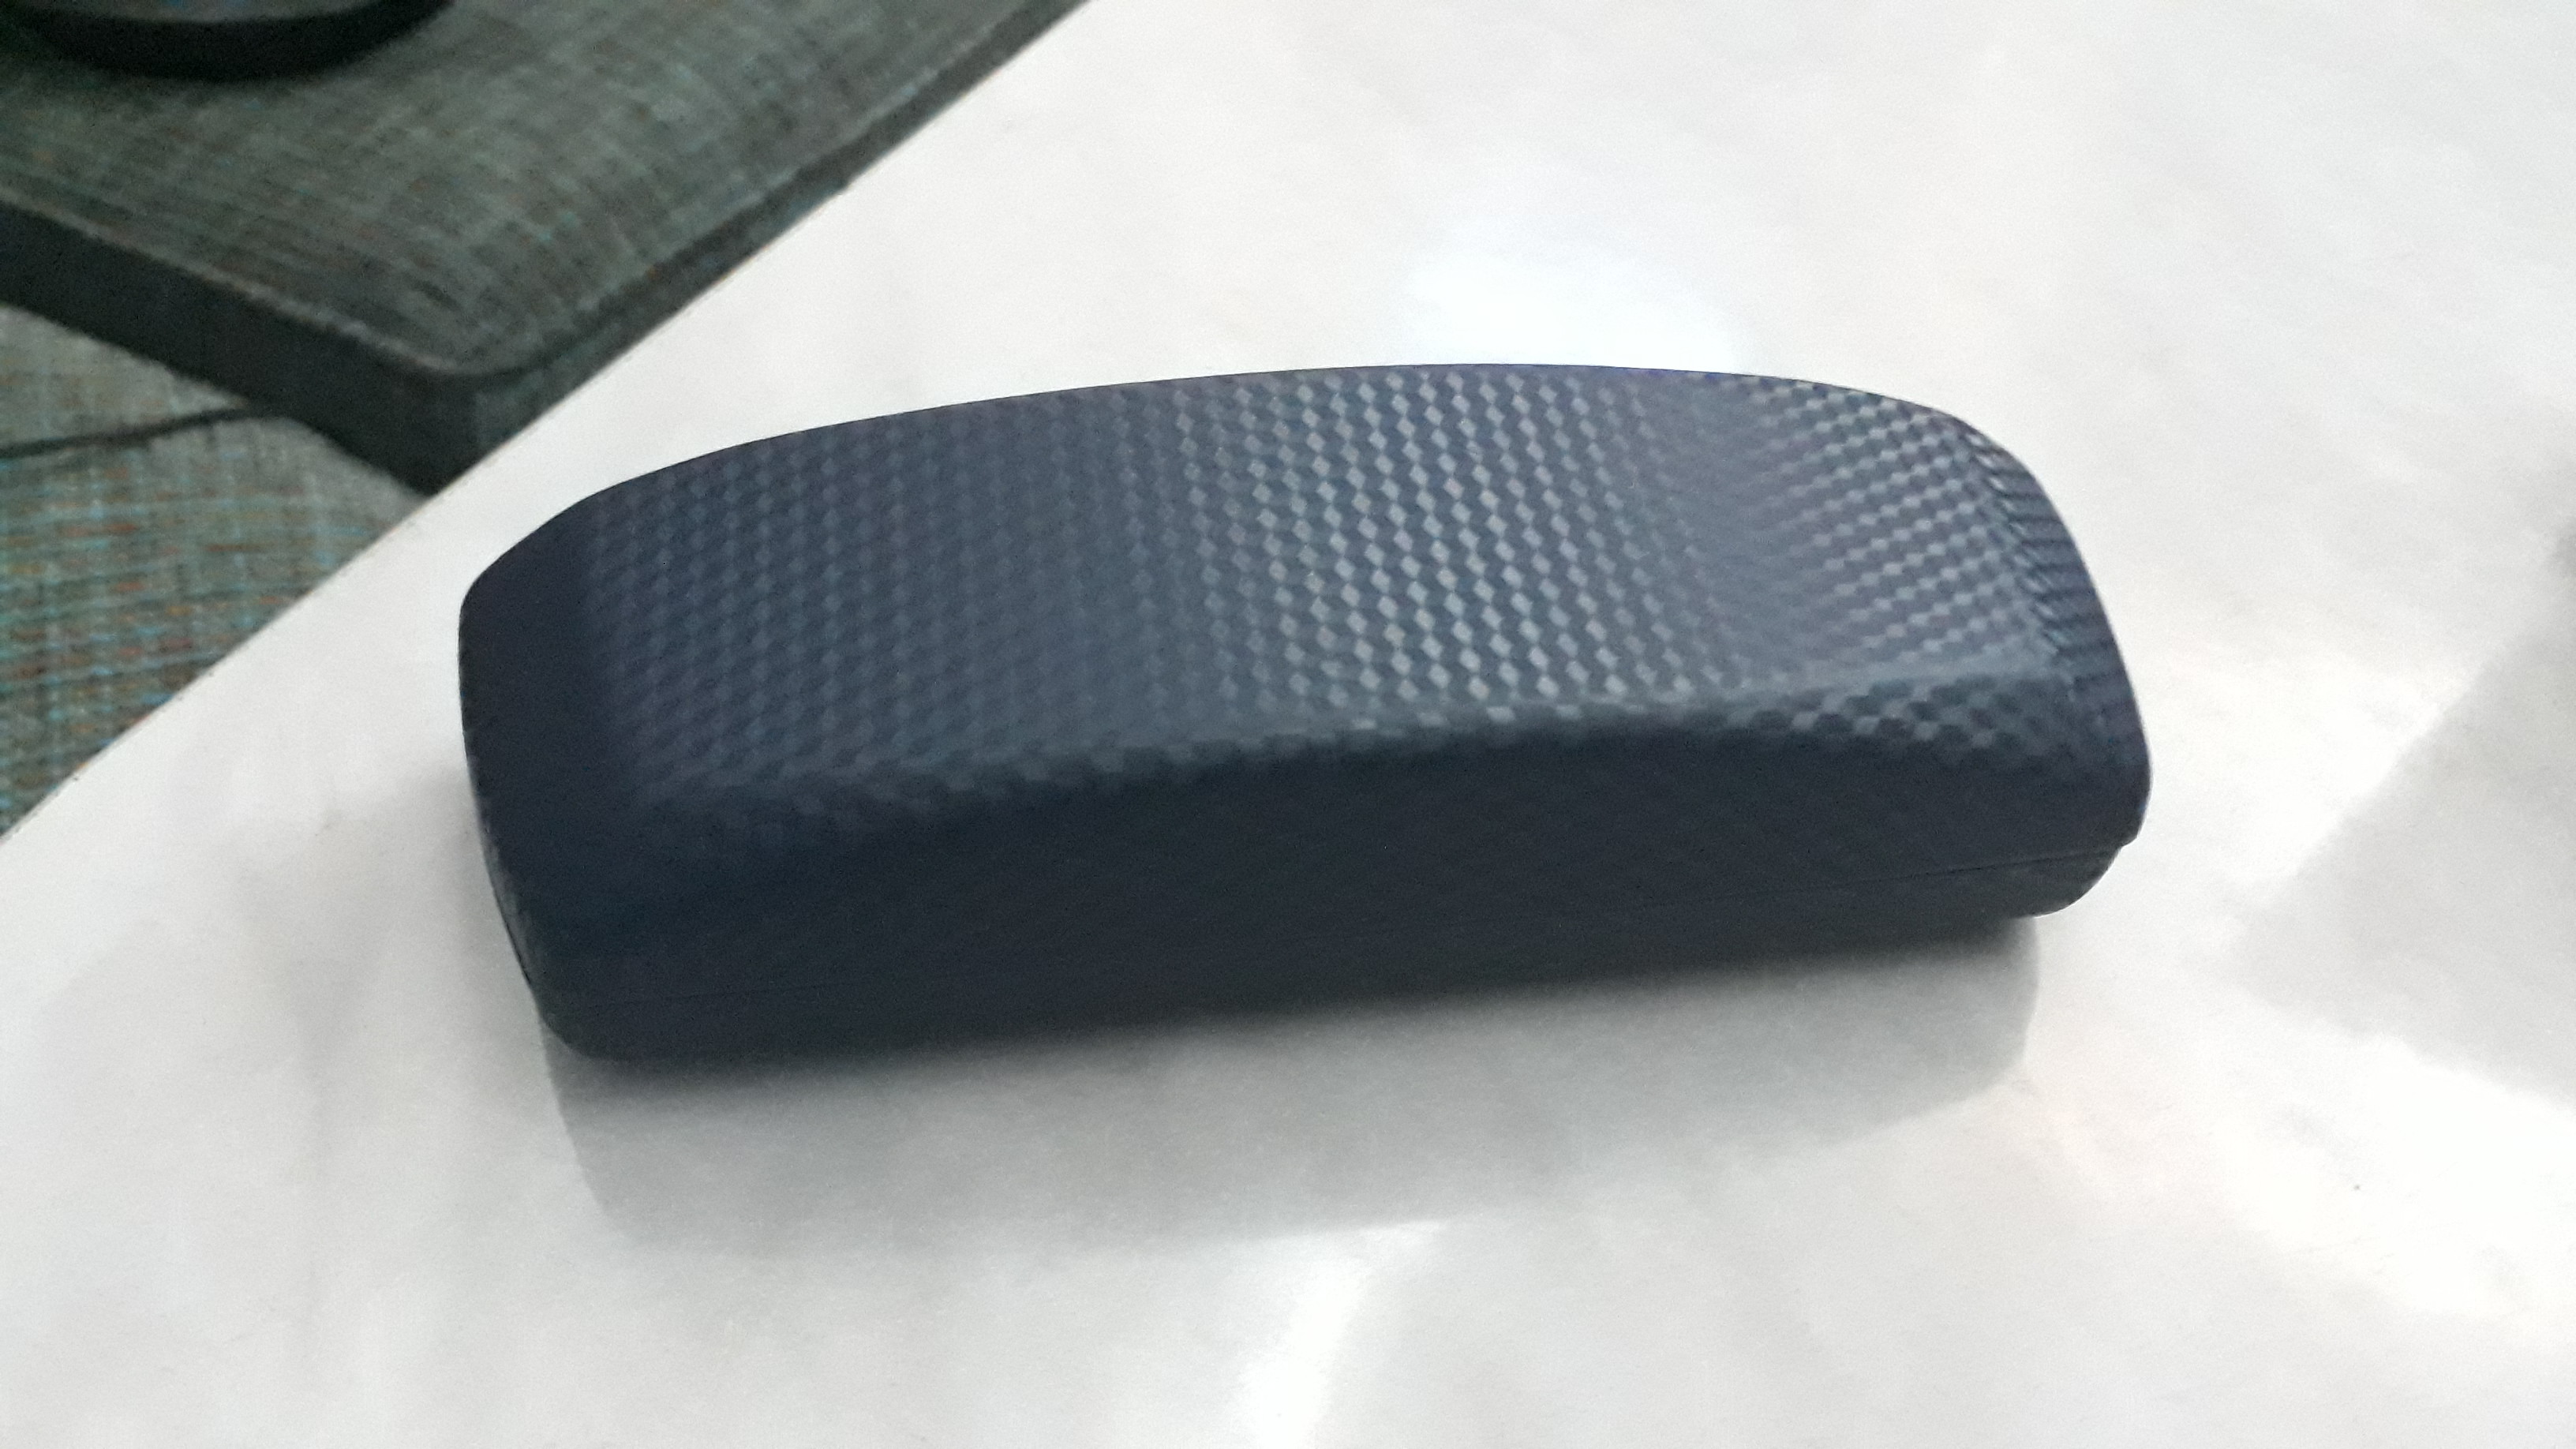nadar: (478, 334, 2151, 1058)
